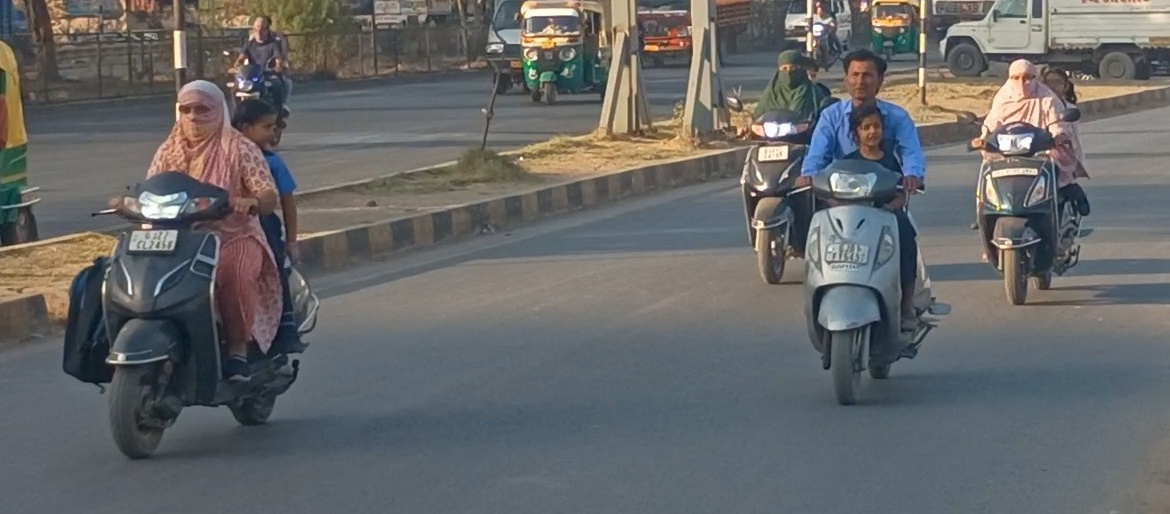BikeWithRider: (52, 72, 329, 465), (785, 42, 952, 404), (959, 52, 1102, 310), (728, 41, 843, 288), (216, 8, 303, 142)
NoHelmet: (165, 74, 234, 148), (224, 93, 292, 159), (796, 0, 851, 76), (834, 44, 894, 106), (839, 102, 895, 155), (1032, 60, 1080, 108), (998, 54, 1044, 100), (772, 44, 816, 88)
